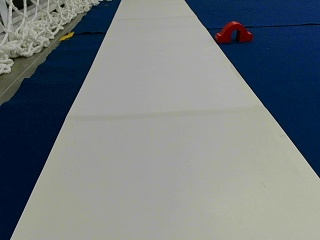bridge: (216, 22, 253, 42)
